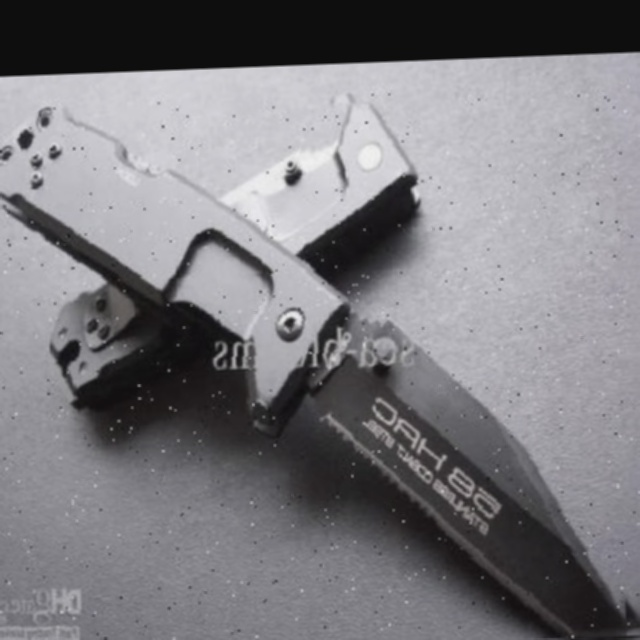Sharp-Object: (0, 85, 640, 640), (42, 93, 420, 416)
